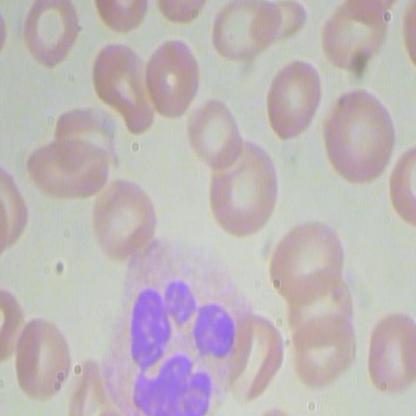RBC: (318, 86, 400, 190), (266, 211, 348, 307), (208, 136, 276, 241), (90, 39, 155, 138), (90, 174, 159, 263), (23, 135, 109, 203), (262, 59, 326, 146), (10, 316, 76, 398), (144, 35, 201, 124), (207, 1, 281, 68), (368, 302, 415, 401), (187, 91, 240, 173), (23, 1, 79, 75)
WBC: (105, 237, 259, 415)
